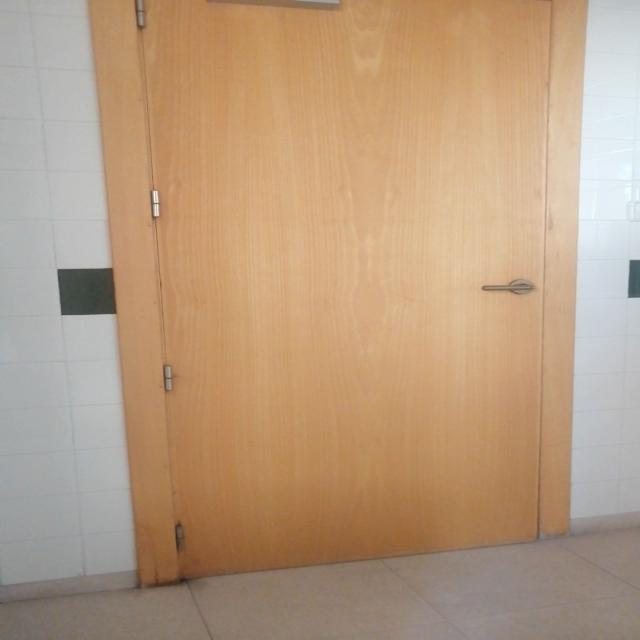door_handle: (475, 285, 535, 292)
